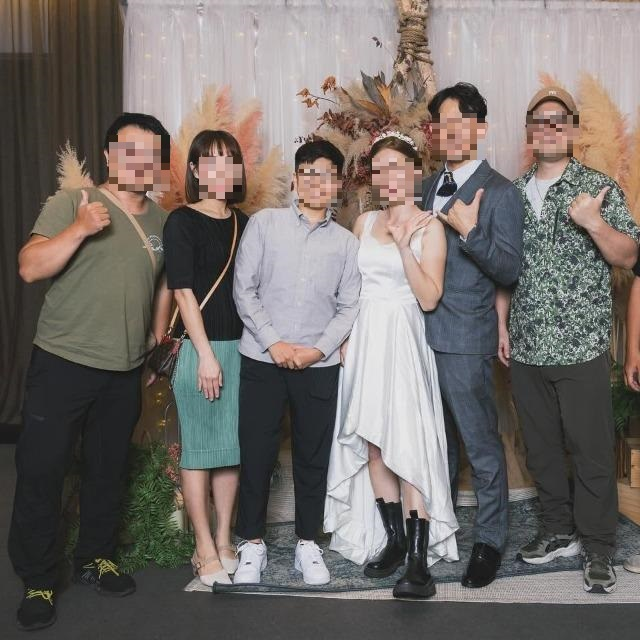NoHelmet: (103, 112, 174, 195), (428, 79, 492, 162), (184, 129, 249, 202), (291, 137, 350, 211)
NoVest: (34, 191, 170, 365), (234, 207, 360, 366)
